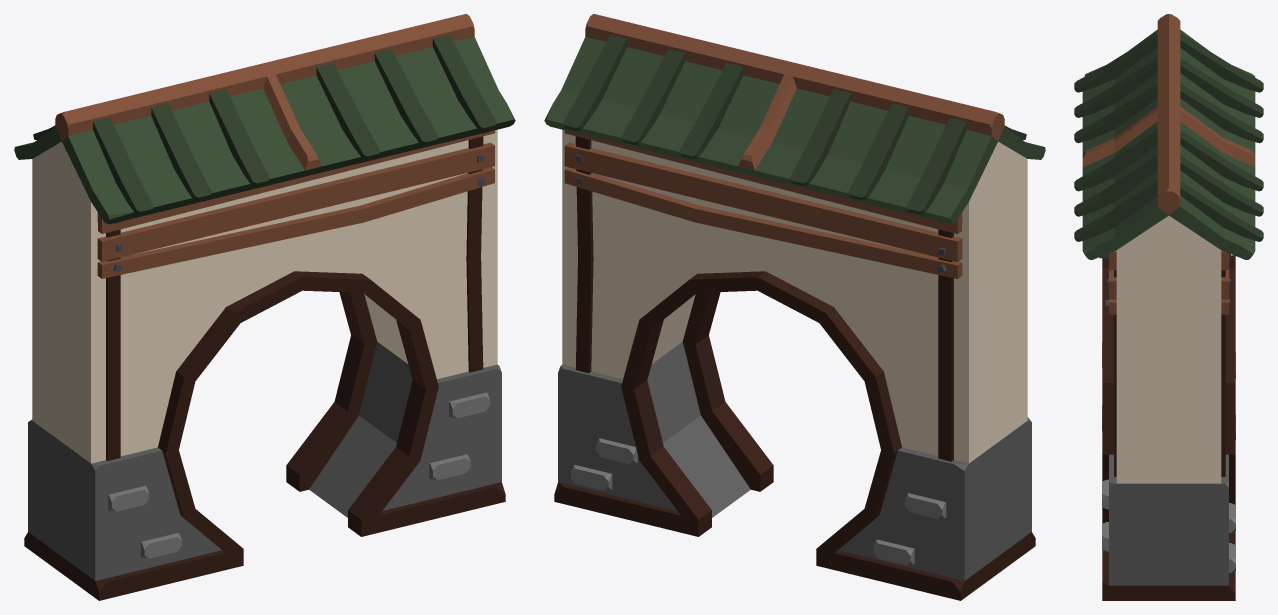
Rendered from GardenWall_Gate_2 Asia.fbx.
3 views of the same model, side by side, from view 1: azimuth 30°, elevation 25°; view 2: azimuth 150°, elevation 25°; view 3: azimuth 270°, elevation 25° (orthographic). The views are drawn at different scales.
Visible parts, largest first — view 1: GardenWall_Gate_2; view 2: GardenWall_Gate_2; view 3: GardenWall_Gate_2.
Boxes of the visible parts, x1,y1,x2,y2 form: GardenWall_Gate_2: (14, 14, 515, 600); GardenWall_Gate_2: (544, 14, 1045, 600); GardenWall_Gate_2: (1074, 14, 1263, 600).
Size of the model in its own units: 3.23 by 3.5 by 1.46.
